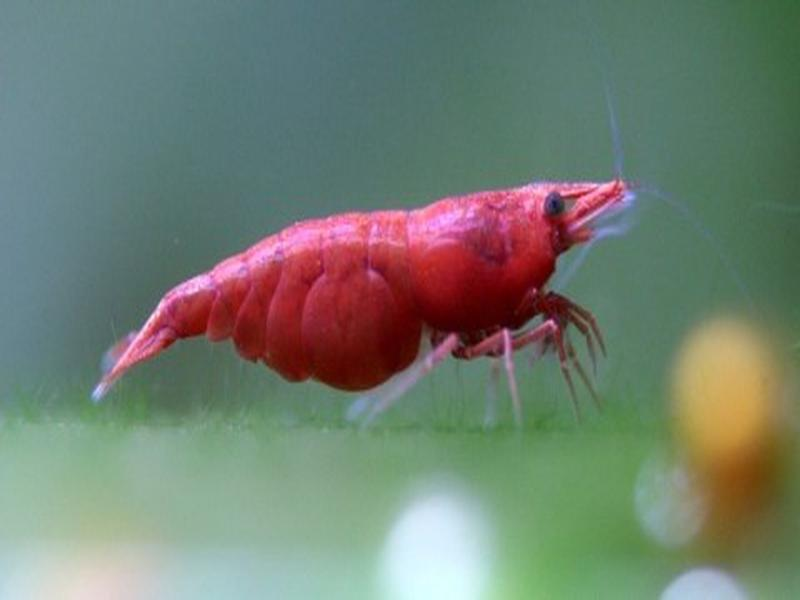shrimp: (91, 174, 641, 415)
